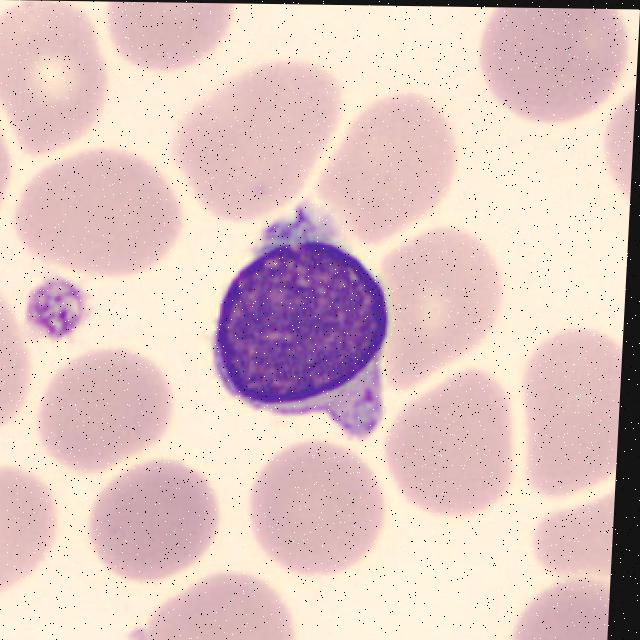lymphocyte: (202, 234, 392, 447)
platelets: (20, 274, 89, 344)
rbc: (162, 61, 337, 219), (476, 7, 631, 130), (383, 385, 517, 521), (19, 161, 165, 283), (372, 235, 498, 376), (309, 102, 453, 223), (41, 349, 176, 476), (518, 328, 621, 493), (253, 443, 384, 567), (0, 4, 113, 147), (94, 465, 212, 582), (153, 579, 301, 640), (103, 2, 224, 60), (532, 499, 614, 580), (0, 466, 53, 589), (587, 80, 636, 208), (508, 580, 609, 640), (0, 267, 36, 431), (0, 132, 13, 216)
